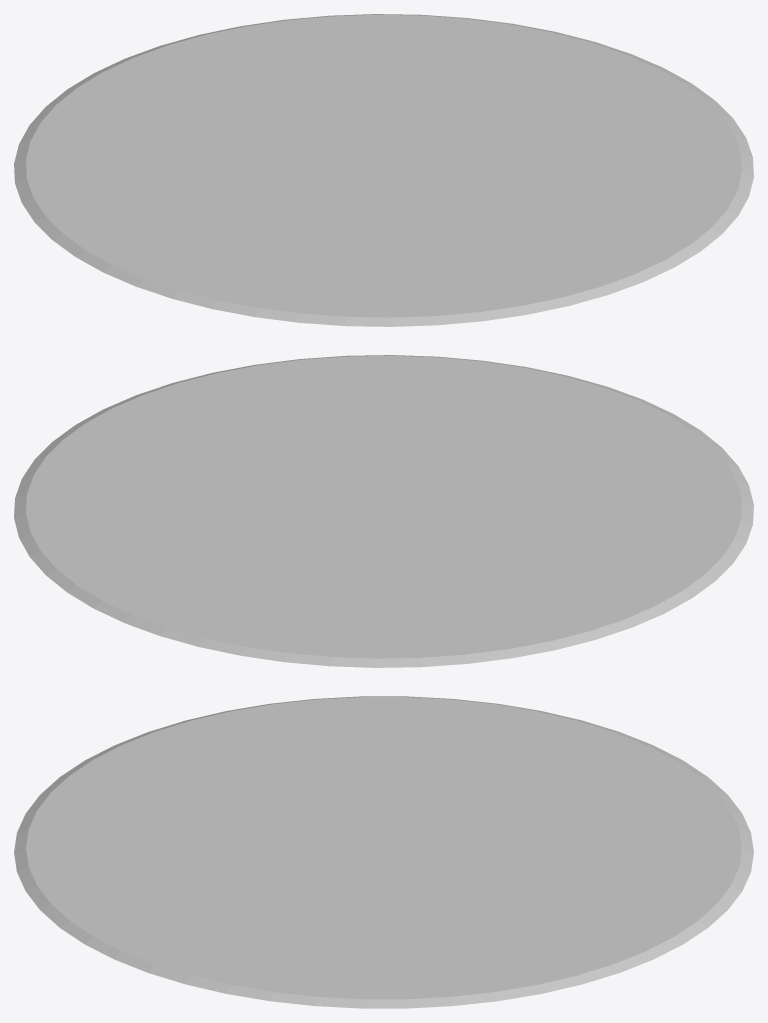
File: platform1_collision.obj
3 views of the same model, one above another, from view 1: azimuth 30°, elevation 25°; view 2: azimuth 150°, elevation 25°; view 3: azimuth 270°, elevation 25° (orthographic).
Parts seen in each view (by area): view 1: platform1_collision; view 2: platform1_collision; view 3: platform1_collision.
Part boxes in pixels (x1,y1,x2,y2): platform1_collision: [14, 14, 753, 326]; platform1_collision: [14, 355, 753, 667]; platform1_collision: [14, 696, 753, 1008].
Bounding box in the file's own units: 66.13 × 0.4259 × 66.26.
1 material, 1 textured.
